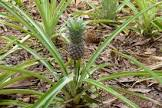Pineapple: (68, 18, 84, 59)
